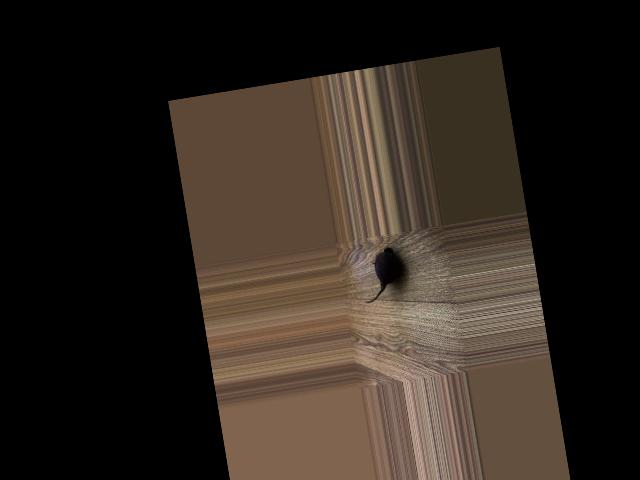beet: (357, 247, 404, 304)
